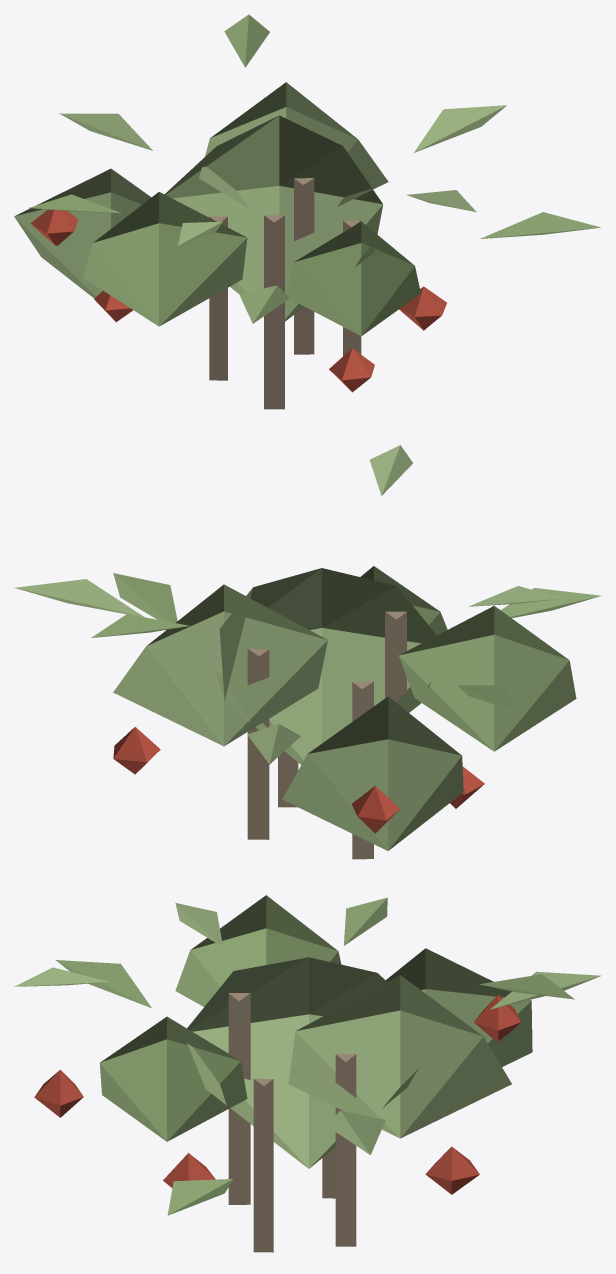
The model's file is guan.lianqiao@fruiting__summer.glb.
The picture shows the model from 3 angles, top to bottom: view 1: azimuth 30°, elevation 25°; view 2: azimuth 150°, elevation 25°; view 3: azimuth 270°, elevation 25°; orthographic projection. The views are drawn at different scales.
Parts seen in each view (by area): view 1: guan.lianqiao@fruiting__summer; view 2: guan.lianqiao@fruiting__summer; view 3: guan.lianqiao@fruiting__summer.
Part boxes in pixels (x1,y1,x2,y2): guan.lianqiao@fruiting__summer: (14,14,600,409); guan.lianqiao@fruiting__summer: (14,445,601,859); guan.lianqiao@fruiting__summer: (14,895,601,1252).
Size of the model in its own units: 3.08 by 1.6 by 3.03.
